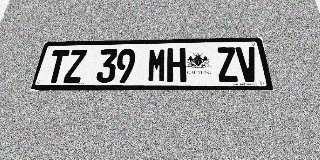3: (95, 49, 118, 83)
9: (115, 49, 136, 83)
H: (167, 48, 186, 82)
M: (147, 48, 167, 82)
T: (45, 50, 70, 83)
V: (235, 47, 261, 82)
Z: (216, 47, 239, 82), (63, 50, 87, 83)
